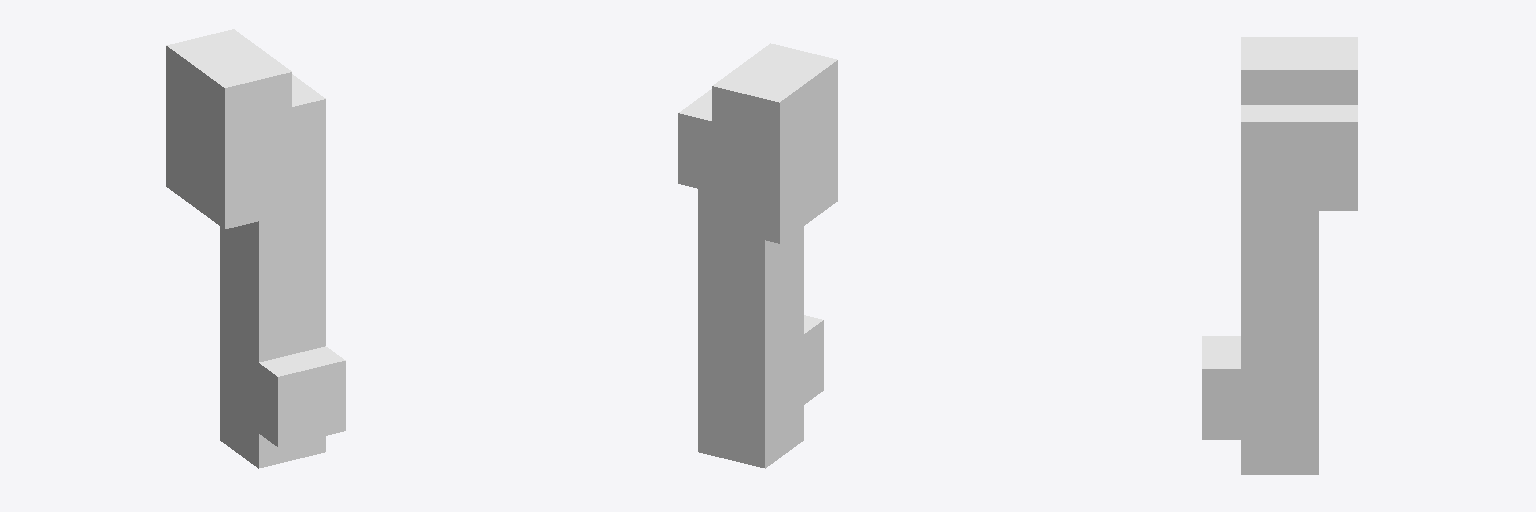
Rendered from cool-trainer-0.obj.
3 renders of one model, left to right at view 1: azimuth 30°, elevation 25°; view 2: azimuth 150°, elevation 25°; view 3: azimuth 270°, elevation 25°, orthographic.
Parts seen in each view (by area): view 1: object 1; view 2: object 1; view 3: object 1.
Part boxes in pixels (x1,y1,x2,y2): object 1: (166,29,345,468); object 1: (678,43,837,468); object 1: (1202,37,1357,474).
Bounding box in the file's own units: 0.3 × 1.1 × 0.4.